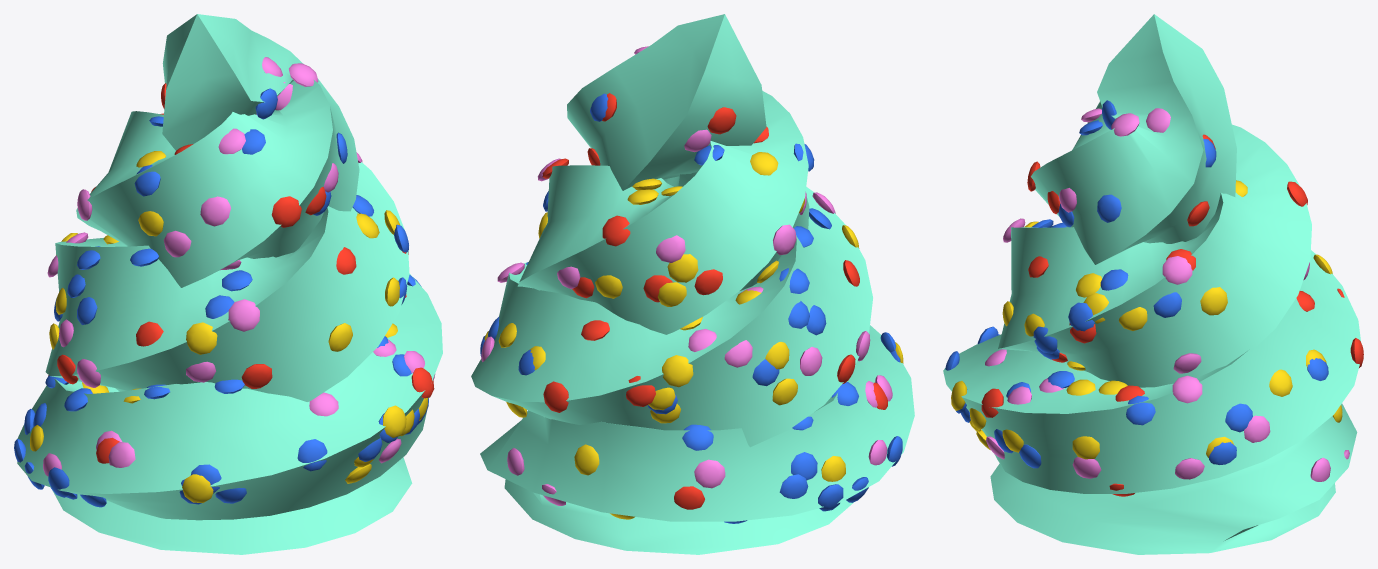
File: Ice Cream Hat O.fbx
3 renders of one model, left to right at view 1: azimuth 30°, elevation 25°; view 2: azimuth 150°, elevation 25°; view 3: azimuth 270°, elevation 25°, orthographic. The views are drawn at different scales.
Visible parts, largest first — view 1: Ice Cream Hat O; view 2: Ice Cream Hat O; view 3: Ice Cream Hat O.
Boxes of the visible parts, x1,y1,x2,y2 form: Ice Cream Hat O: [14, 14, 442, 554]; Ice Cream Hat O: [471, 14, 914, 554]; Ice Cream Hat O: [943, 14, 1363, 554].
Size of the model in its own units: 0.4957 by 0.5946 by 0.4995.
